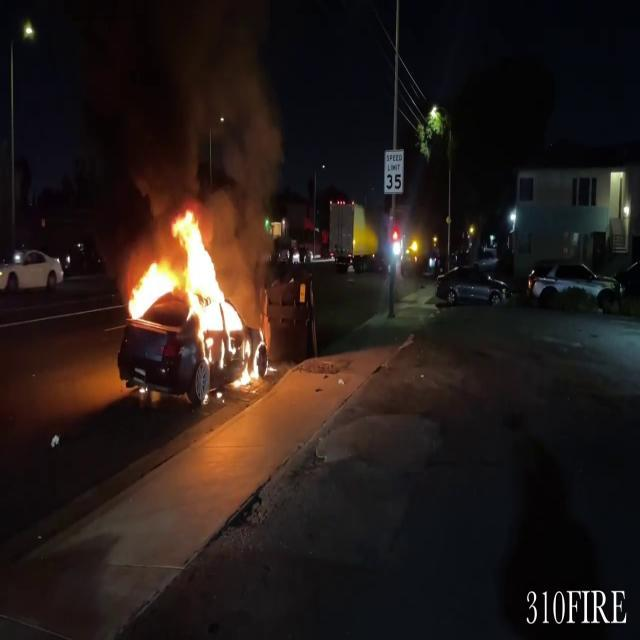Fire: (123, 204, 264, 389)
Smoke: (78, 1, 286, 251)
